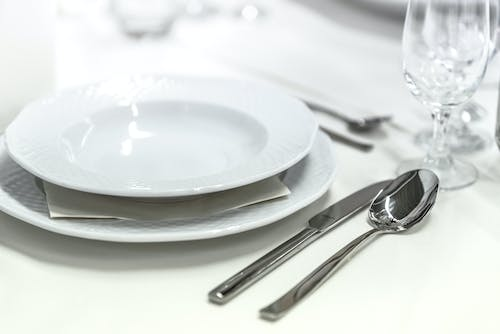knife: (204, 179, 393, 305)
